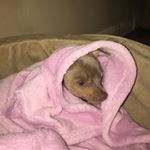puppy: (62, 50, 113, 106)
